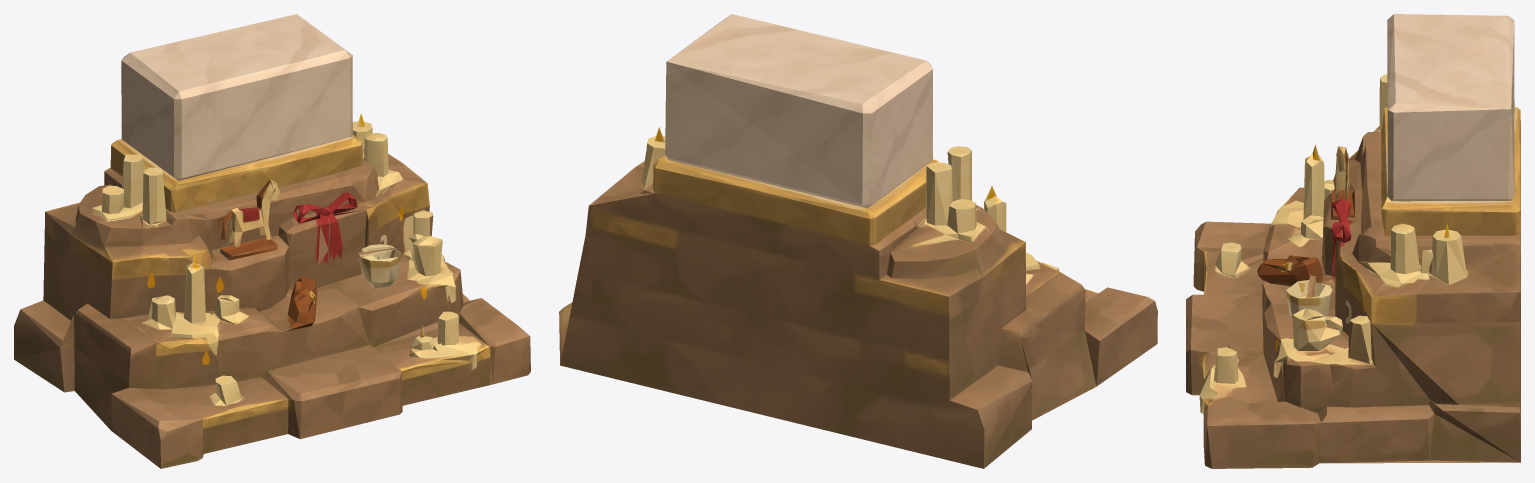
The model's file is TWN_PRP_shrine_A.glb.
The picture shows the model from 3 angles, left to right: view 1: azimuth 30°, elevation 25°; view 2: azimuth 150°, elevation 25°; view 3: azimuth 270°, elevation 25°; orthographic projection. The views are drawn at different scales.
Parts seen in each view (by area): view 1: Mesh_0; view 2: Mesh_0; view 3: Mesh_0.
Boxes of the visible parts, box(x1,y1,x2,y2) form: Mesh_0: box(14, 14, 530, 468); Mesh_0: box(559, 14, 1157, 468); Mesh_0: box(1186, 14, 1520, 468).
Bounding box in the file's own units: 1.88 × 1.36 × 1.32.
Materials: 1 (1 with a texture image).
